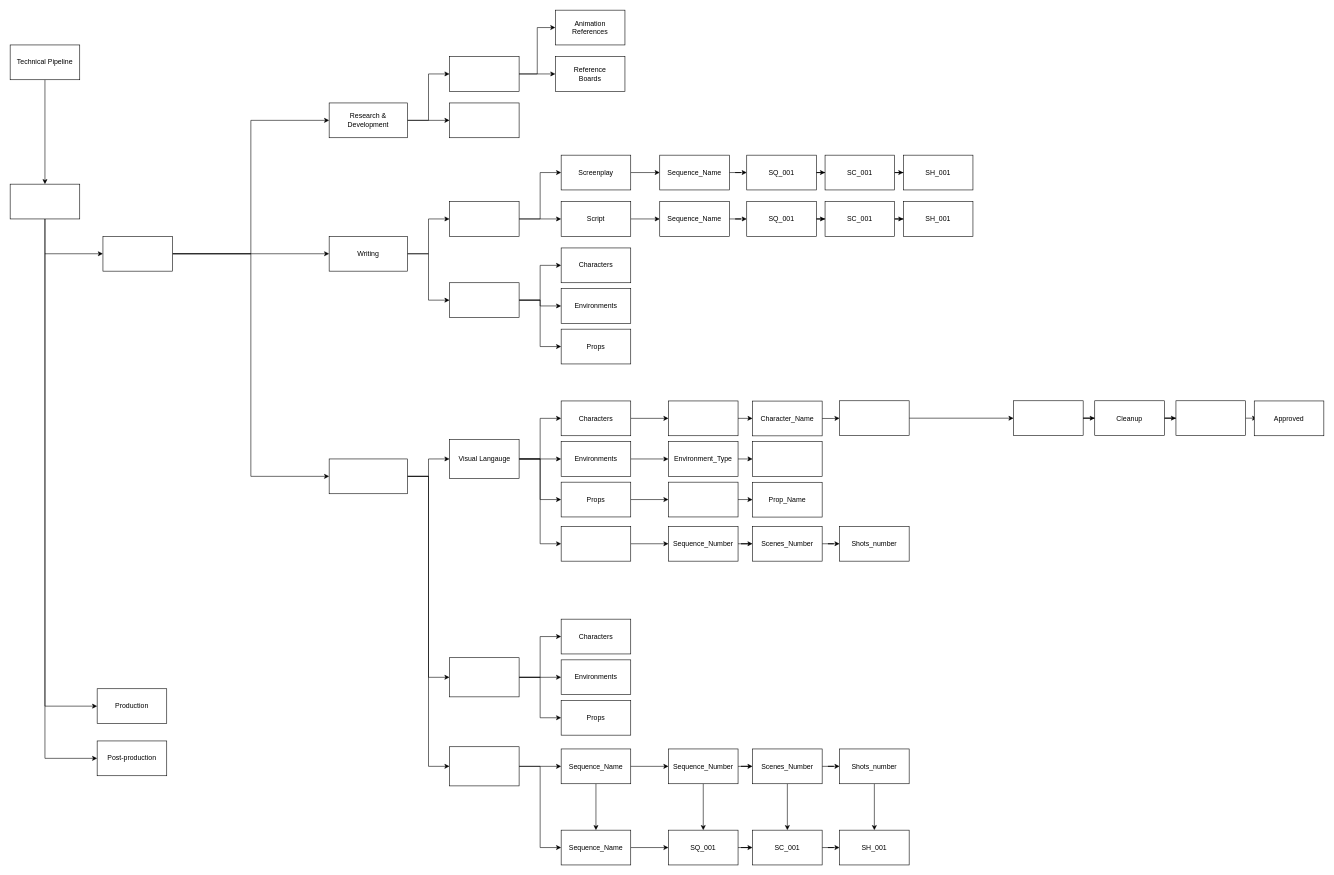
This 1334x875 diagram has some shape labels left out. Each missing label, with the centre of its shape:
"Briefs" goes at [484,300].
"Character_Type" goes at [703,418].
"Color" goes at [596,543].
"Design Sheets" goes at [484,677].
"Environment_Name" goes at [787,458].
"Pre-production" goes at [137,253].
"ProductionName" goes at [45,201].
"Prop_Type" goes at [703,499].
"Reference Material" goes at [484,73].
"Revisons" goes at [1210,418].
"Rough" goes at [1048,418].
"Story" goes at [484,218].
"Storyboards" goes at [484,766].
"Technical Specifications" goes at [484,120].
"Thumbnail" goes at [874,418].
"Visual Developement" goes at [368,476].
